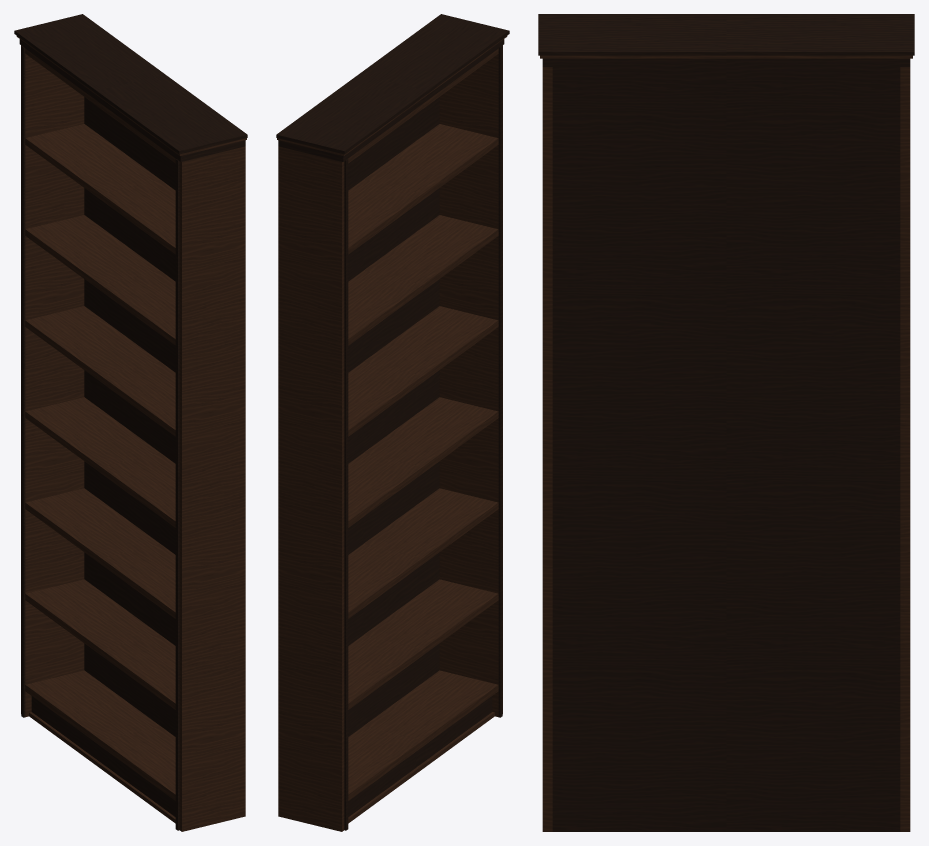
Rendered from ArchiveBay.glb.
3 views of the same model, side by side, from view 1: azimuth 30°, elevation 25°; view 2: azimuth 150°, elevation 25°; view 3: azimuth 270°, elevation 25° (orthographic). The views are drawn at different scales.
Parts seen in each view (by area): view 1: ShelfBay; view 2: ShelfBay; view 3: ShelfBay.
Boxes of the visible parts, box(x1,y1,x2,y2) form: ShelfBay: box(14, 14, 247, 831); ShelfBay: box(276, 14, 509, 831); ShelfBay: box(538, 14, 914, 831).
Size of the model in its own units: 0.22 by 2.1 by 0.918.
2 materials, 2 textured.
